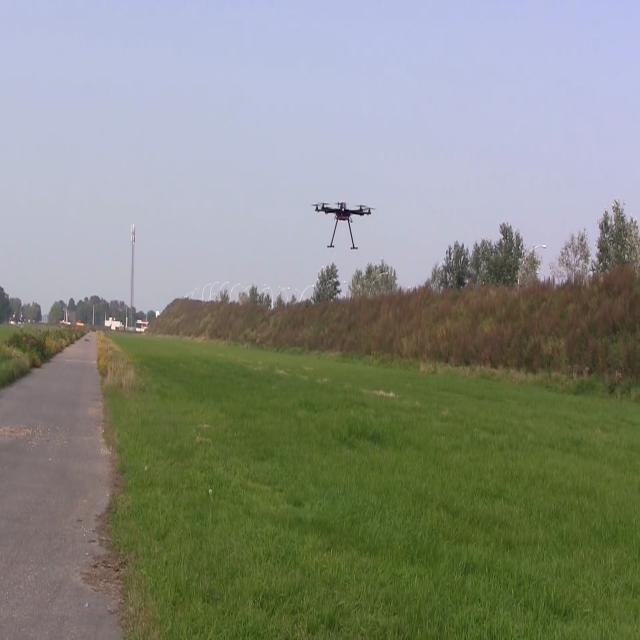drone: (301, 182, 382, 268)
